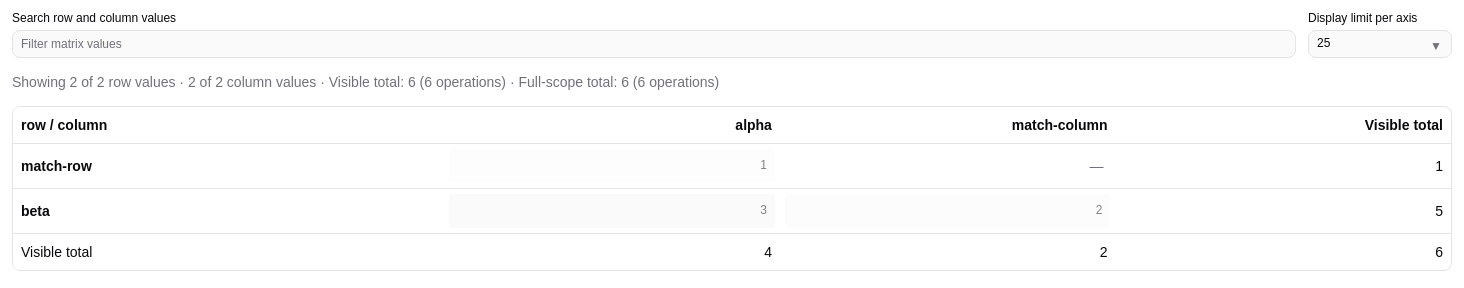
Test: marks search-hidden cross-intersections and excludes them from visible totals
The image size is (1464, 288).
Type "match" into the field labelled "Search row and column values". click: (654, 44)
box: [12,30,1296,58]
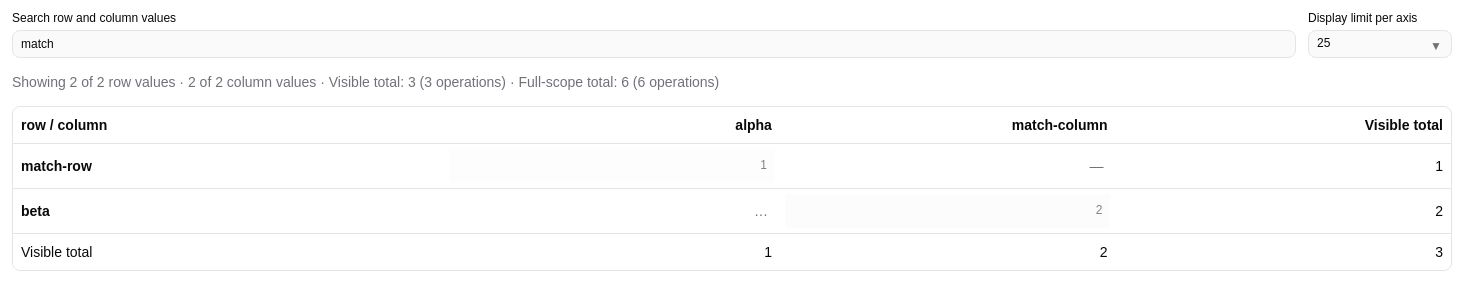
Expected: the text "Full-scope total: 6 (6 operations)" is shown, [12,72,719,92]
Result: the text named "Operations hidden by matrix search" is shown at [754,203,768,219]
